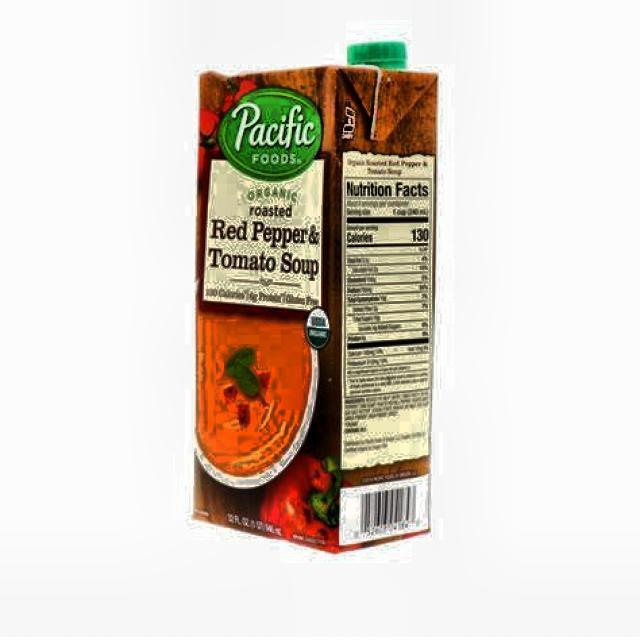cardboard: (192, 62, 438, 554)
